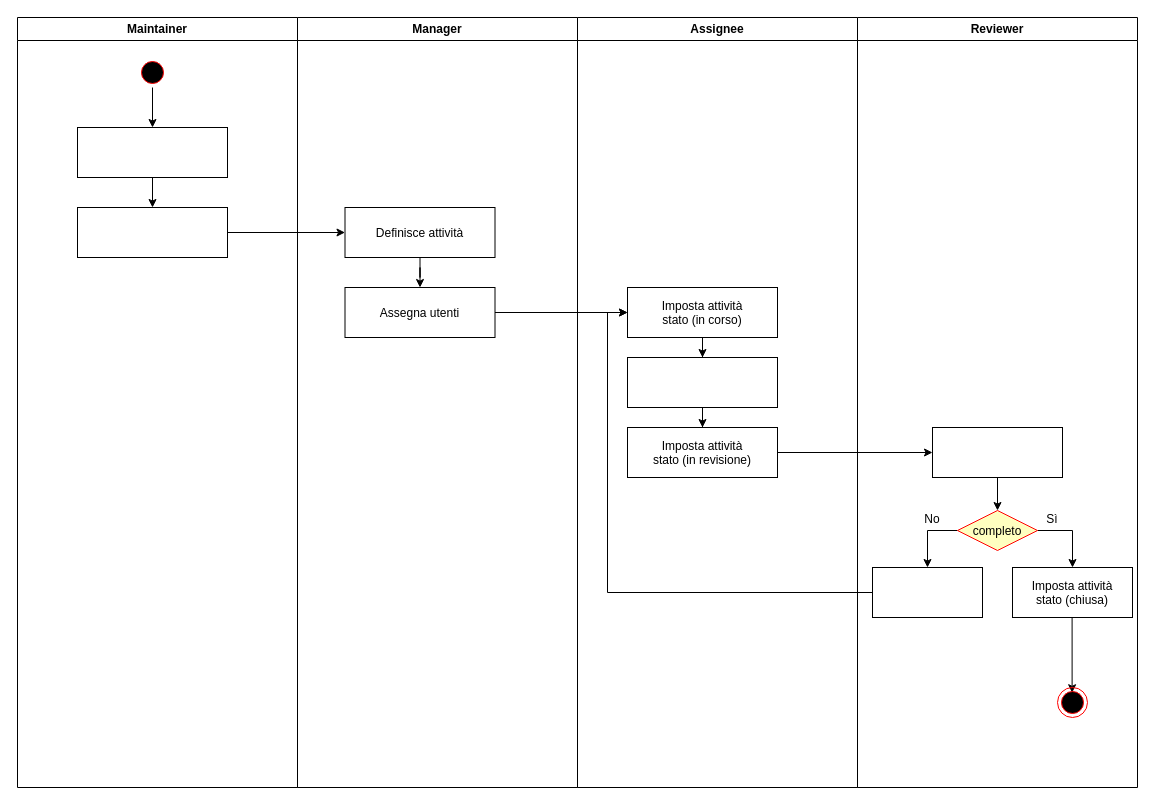
Image size: 1155x805. Some labels were removed from this diagram. Each missing label, with the centre of its shape:
"Crea un nuovo progetto" belongs at (152,152).
"Definisce progetto" belongs at (152,232).
"Notifica manuale assignee" belongs at (927,592).
"Svolge lavoro" belongs at (702,382).
"Svolge verifica" belongs at (997,452).
